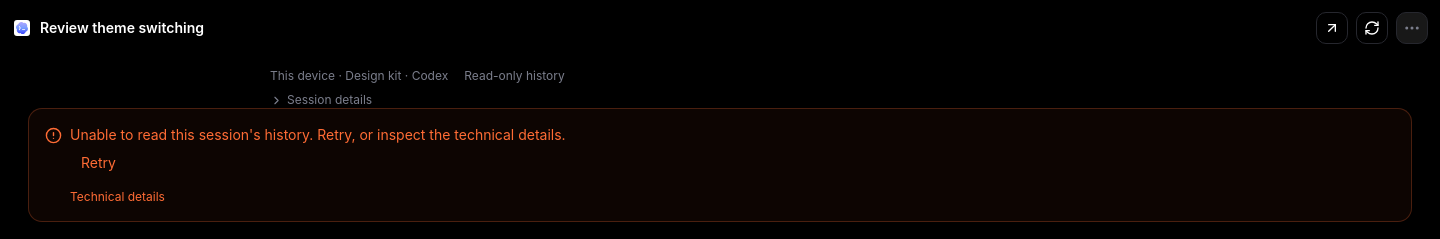
Test: SessionHubPage › retries failed history reads and displays recovered content
Expected: the message shows "Unable to read this session's history", left=70, top=126, right=566, bottom=143
What coordinates should you click on to do the following:
click the button "Retry"
I would click on:
 (98, 163)
Its box is left=70, top=145, right=127, bottom=181.
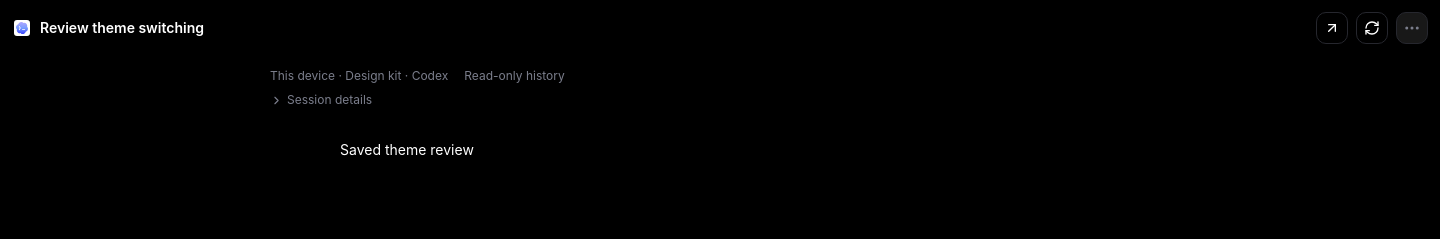
Result: the text "Saved theme review" is shown at left=340, top=141, right=474, bottom=158
Result: the message "Unable to read this session's history. Retry, or inspect the technical details." is gone
